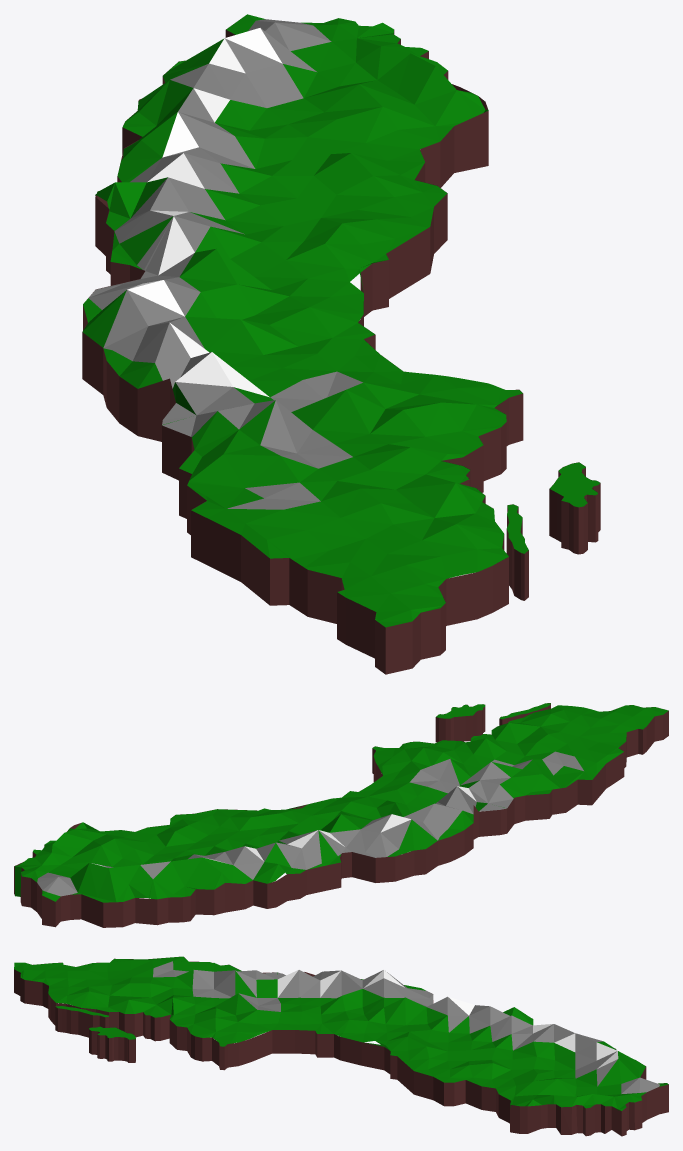
Rendered from sweden.fbx.
3 views of the same model, one above another, from view 1: azimuth 30°, elevation 25°; view 2: azimuth 150°, elevation 25°; view 3: azimuth 270°, elevation 25° (orthographic). The views are drawn at different scales.
Visible parts, largest first — view 1: Sweden Flat; view 2: Sweden Flat; view 3: Sweden Flat.
Boxes of the visible parts, box(x1,y1,x2,y2) form: Sweden Flat: box(82, 14, 600, 674); Sweden Flat: box(14, 703, 668, 927); Sweden Flat: box(14, 956, 668, 1136).
Size of the model in its own units: 285 by 37.46 by 504.
